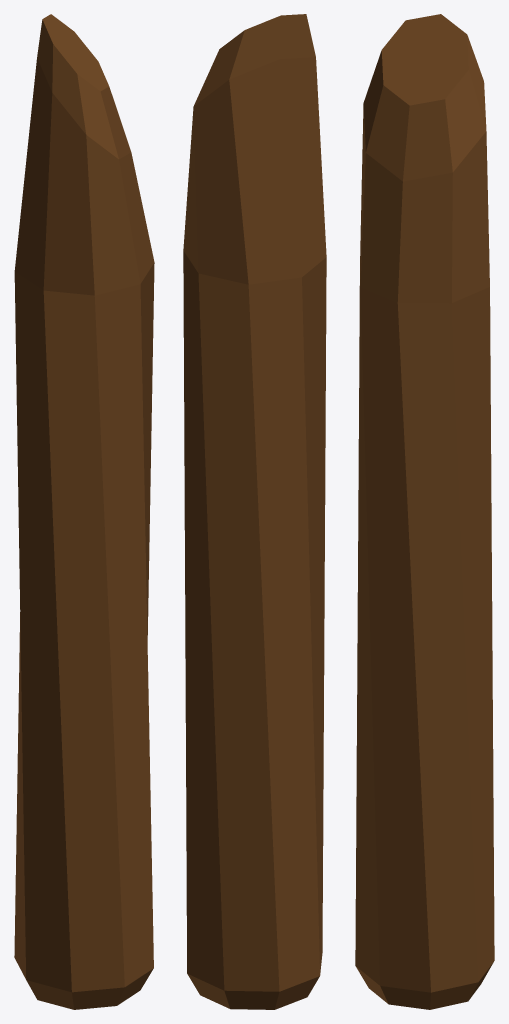
The model's file is E_B_FenceF.fbx.
3 renders of one model, left to right at view 1: azimuth 30°, elevation 25°; view 2: azimuth 150°, elevation 25°; view 3: azimuth 270°, elevation 25°, orthographic. The views are drawn at different scales.
Parts seen in each view (by area): view 1: E_B_FenceF; view 2: E_B_FenceF; view 3: E_B_FenceF.
Boxes of the visible parts, box(x1,y1,x2,y2) form: E_B_FenceF: box(14, 14, 154, 1009); E_B_FenceF: box(183, 14, 326, 1009); E_B_FenceF: box(355, 14, 494, 1009).
Bounding box in the file's own units: 54.31 × 412 × 54.31.
